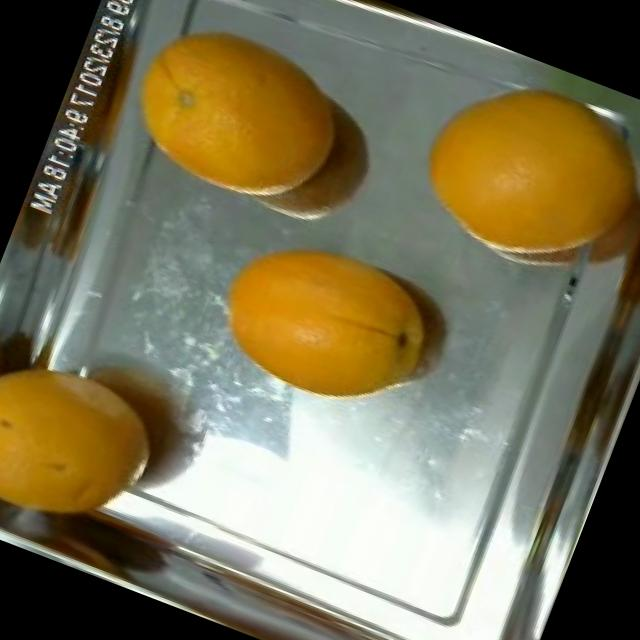Fruit: (184, 202, 435, 430), (0, 319, 171, 565)
